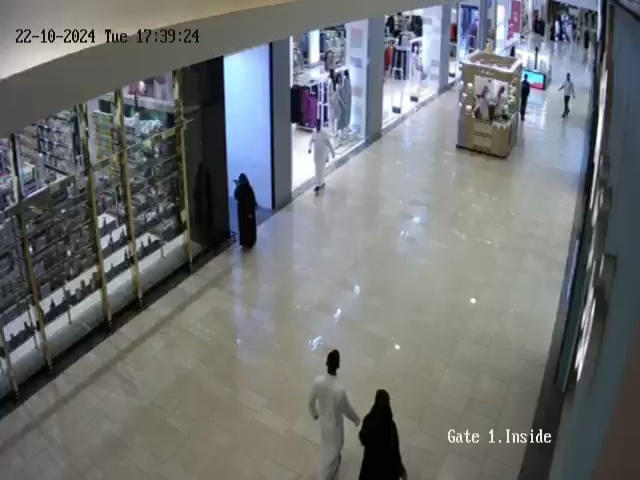female: (221, 165, 271, 265), (357, 389, 407, 480)
male: (308, 349, 362, 480), (307, 121, 336, 194), (557, 73, 575, 118), (520, 75, 531, 121)
